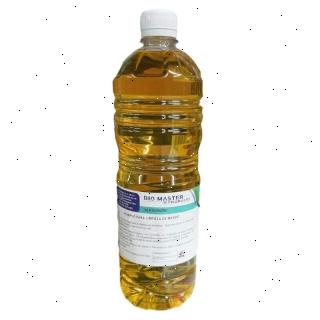Plastic-bottle: (112, 11, 212, 313)
